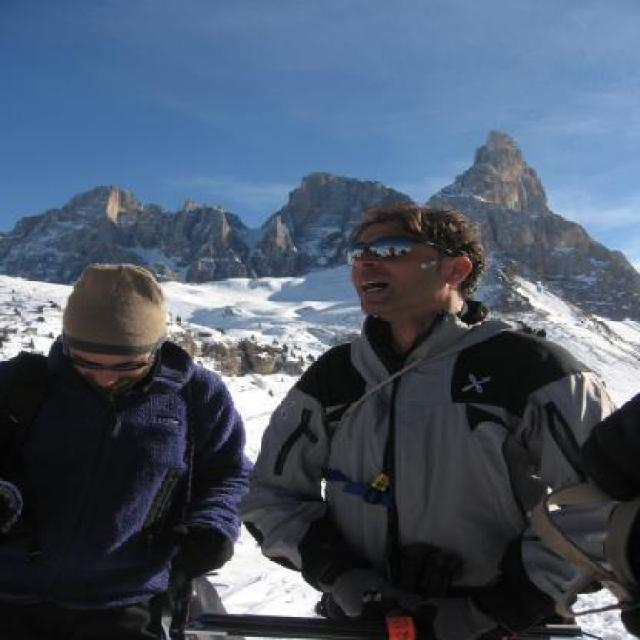face_nomask: (344, 234, 418, 306)
glasses: (342, 234, 424, 269), (64, 348, 150, 380)
hand_glove: (304, 550, 413, 616), (408, 584, 528, 640), (163, 520, 232, 586)
head_nohelmet: (53, 258, 170, 352), (343, 205, 472, 240)
person: (243, 198, 617, 640), (0, 258, 249, 640)
